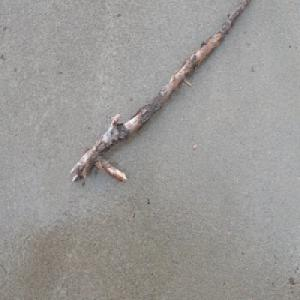Wood: (69, 0, 250, 186)
